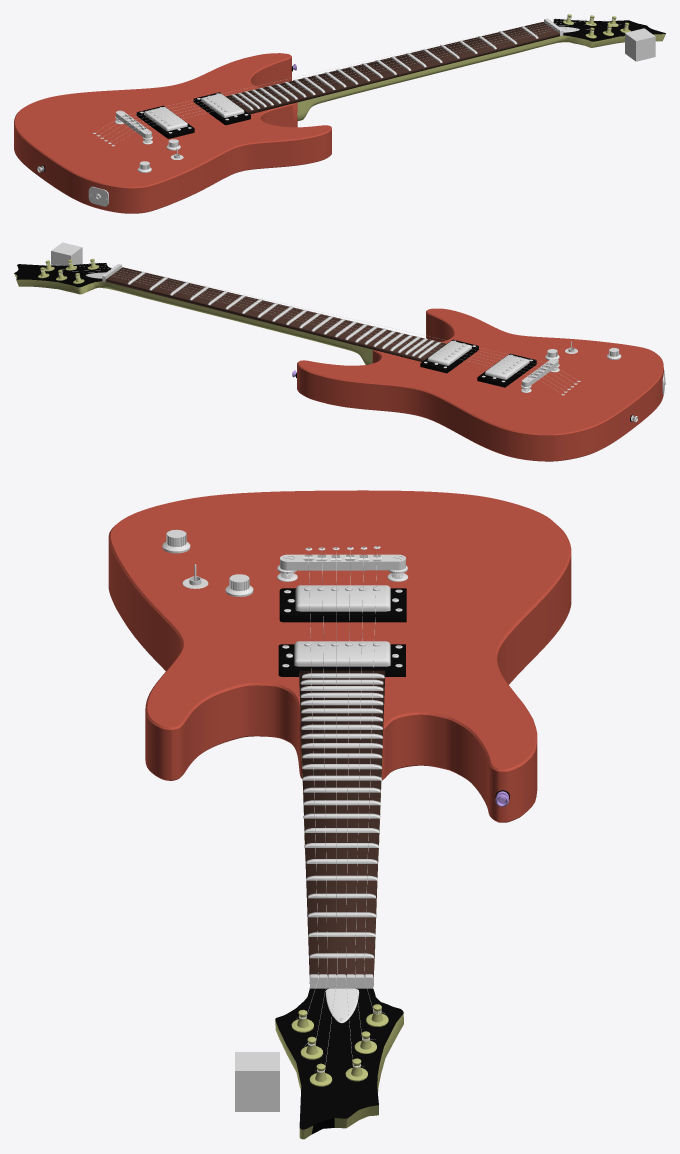
The model's file is guitar.glb.
The picture shows the model from 3 angles, top to bottom: view 1: azimuth 30°, elevation 25°; view 2: azimuth 150°, elevation 25°; view 3: azimuth 270°, elevation 25°; orthographic projection. The views are drawn at different scales.
Visible parts, largest first — view 1: cialo, drewno, gryf, frets, pickup, podkladki, struny, klucze, most, bolec, wejscie; view 2: cialo, drewno, gryf, frets, pickup, struny, podkladki, klucze, most, bolec; view 3: cialo, drewno, gryf, frets, pickup, podkladki, klucze, struny, most, bolec, knob, nut.
Part boxes in pixels (left/top/right/bottom): cialo: left=14, top=53, right=331, bottom=213; drewno: left=226, top=22, right=559, bottom=114; gryf: left=297, top=18, right=665, bottom=120; frets: left=231, top=26, right=538, bottom=110; pickup: left=144, top=93, right=244, bottom=131; podkladki: left=136, top=92, right=250, bottom=138; struny: left=98, top=16, right=628, bottom=145; klucze: left=625, top=28, right=655, bottom=61; most: left=115, top=110, right=152, bottom=144; bolec: left=563, top=14, right=630, bottom=38; wejscie: left=88, top=186, right=108, bottom=206; cialo: left=297, top=308, right=663, bottom=461; drewno: left=105, top=267, right=446, bottom=361; gryf: left=14, top=263, right=373, bottom=364; frets: left=127, top=272, right=440, bottom=358; pickup: left=427, top=341, right=529, bottom=379; struny: left=40, top=261, right=576, bottom=391; podkladki: left=420, top=339, right=536, bottom=387; klucze: left=51, top=242, right=82, bottom=265; most: left=521, top=358, right=559, bottom=392; bolec: left=38, top=259, right=99, bottom=283; cialo: left=108, top=490, right=571, bottom=822; drewno: left=299, top=670, right=385, bottom=984; gryf: left=275, top=754, right=403, bottom=1139; frets: left=300, top=673, right=384, bottom=958; pickup: left=294, top=585, right=390, bottom=666; podkladki: left=278, top=588, right=406, bottom=676; klucze: left=235, top=1052, right=279, bottom=1111; struny: left=296, top=547, right=385, bottom=1072; most: left=277, top=554, right=408, bottom=581; bolec: left=291, top=1004, right=388, bottom=1086; knob: left=162, top=529, right=253, bottom=596; nut: left=309, top=974, right=373, bottom=988.
Size of the model in its own units: 5.31 by 0.3156 by 1.72.
